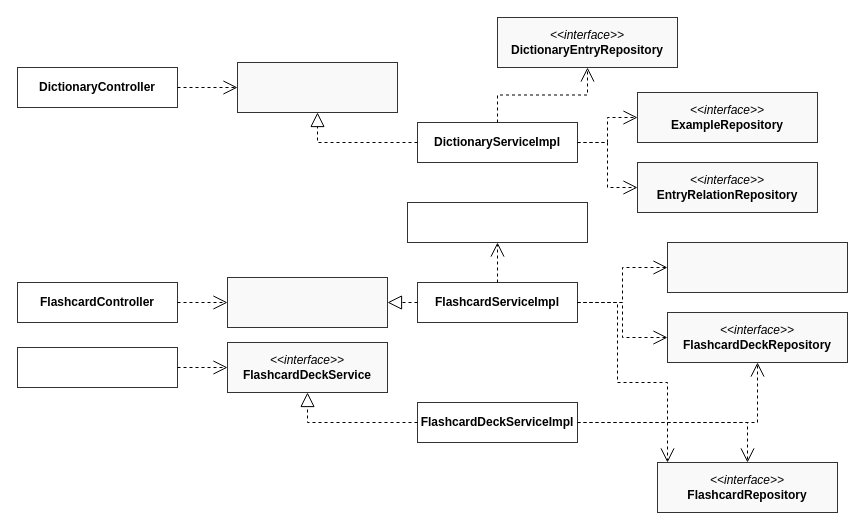
Some shapes in this 865 by 530 pixel diagram are drawn without their labels. The centre of each missing label's shape, as x and y in pixels:
"<<interface>> DictionaryService" belongs at point 317,87.
"<<interface>> FlashcardService" belongs at point 307,302.
"<<interface>> SrsDetailRepository" belongs at point 757,267.
"FlashcardDeckController" belongs at point 97,367.
"SM2Algorithm" belongs at point 497,222.
